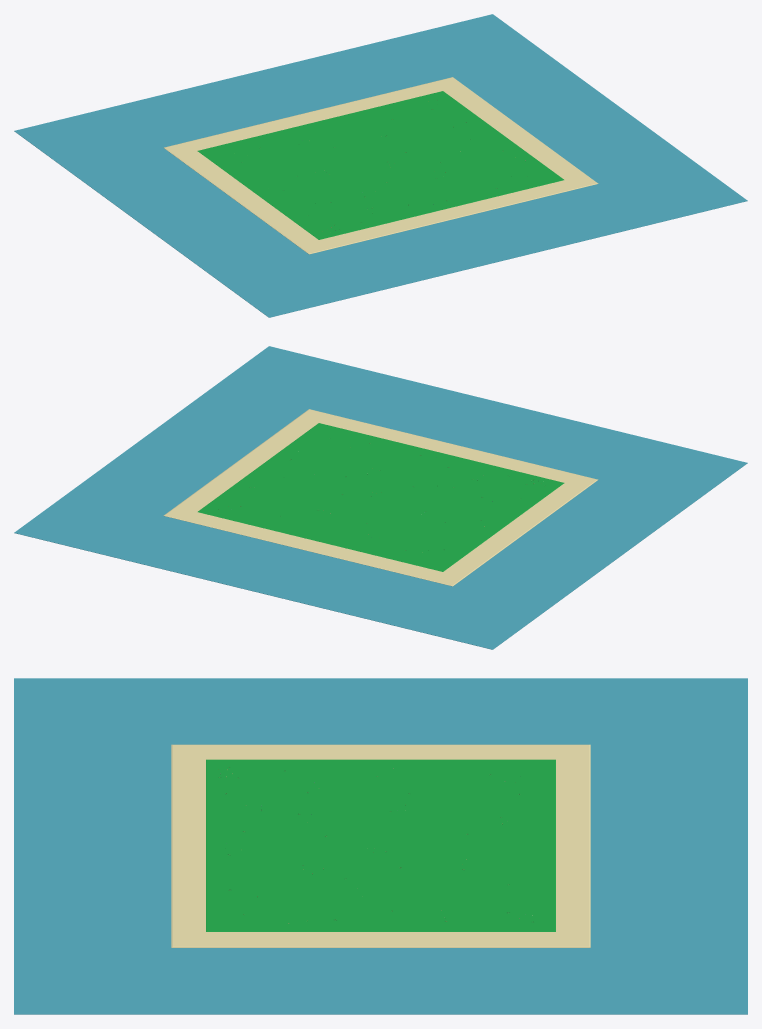
The model's file is Map_boss1-ilha-5x.glb.
3 views of the same model, one above another, from view 1: azimuth 30°, elevation 25°; view 2: azimuth 150°, elevation 25°; view 3: azimuth 270°, elevation 25° (orthographic). The views are drawn at different scales.
Visible parts, largest first — view 1: Mar, Relvado, Faixa de areia; view 2: Mar, Relvado, Faixa de areia; view 3: Mar, Relvado, Faixa de areia.
Boxes of the visible parts, <box> form: Mar: <box>14,14,747,317</box>; Relvado: <box>197,91,563,239</box>; Faixa de areia: <box>163,77,598,254</box>; Mar: <box>14,346,747,649</box>; Relvado: <box>198,423,564,571</box>; Faixa de areia: <box>163,409,598,586</box>; Mar: <box>14,678,747,1014</box>; Relvado: <box>206,759,555,931</box>; Faixa de areia: <box>171,744,590,947</box>.
Size of the model in its own units: 253 by 0.8763 by 233.
